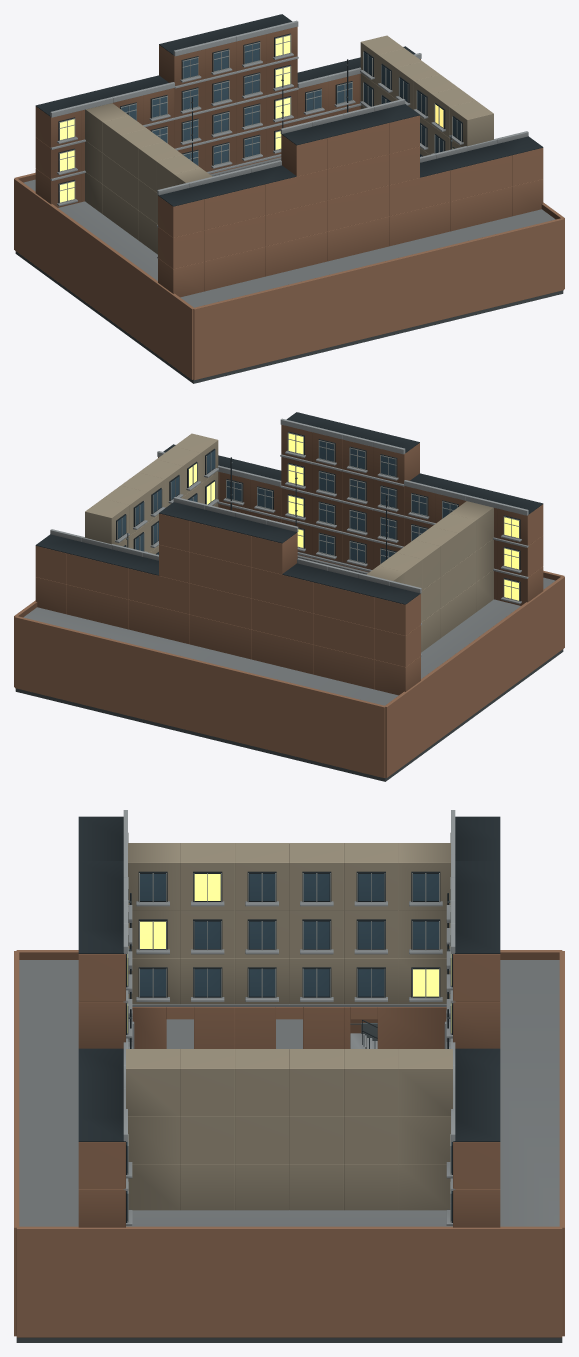
File: onsite-heron-court.glb
The picture shows the model from 3 angles, top to bottom: view 1: azimuth 30°, elevation 25°; view 2: azimuth 150°, elevation 25°; view 3: azimuth 270°, elevation 25°; orthographic projection. The views are drawn at different scales.
Visible parts, largest first — view 1: Estate / brick, Estate / concrete, Estate / stock, Estate / dark, Estate / glass, Estate / trim, Estate / asphalt, Estate / lit; view 2: Estate / brick, Estate / concrete, Estate / stock, Estate / dark, Estate / glass, Estate / trim, Estate / asphalt, Estate / lit; view 3: Estate / brick, Estate / stock, Estate / concrete, Estate / dark, Estate / glass, Estate / asphalt, Estate / trim, Estate / lit.
Part boxes in pixels (<box>): Estate / brick: <box>14,26,564,380</box>; Estate / concrete: <box>23,20,555,307</box>; Estate / stock: <box>85,35,493,254</box>; Estate / dark: <box>35,14,543,206</box>; Estate / glass: <box>121,43,460,165</box>; Estate / trim: <box>59,34,461,203</box>; Estate / asphalt: <box>15,251,563,383</box>; Estate / lit: <box>60,35,453,202</box>; Estate / brick: <box>14,424,564,778</box>; Estate / concrete: <box>23,418,555,705</box>; Estate / stock: <box>85,433,493,652</box>; Estate / dark: <box>35,412,543,604</box>; Estate / glass: <box>118,441,457,563</box>; Estate / trim: <box>117,432,519,601</box>; Estate / asphalt: <box>15,649,563,781</box>; Estate / lit: <box>189,433,518,600</box>; Estate / brick: <box>14,950,564,1337</box>; Estate / stock: <box>126,843,452,1210</box>; Estate / concrete: <box>19,810,559,1226</box>; Estate / dark: <box>78,816,500,1222</box>; Estate / glass: <box>127,874,451,1220</box>; Estate / asphalt: <box>16,1337,562,1342</box>; Estate / trim: <box>127,832,451,1222</box>; Estate / lit: <box>127,874,451,1032</box>.
Bounding box in the file's own units: 36.3 × 18.46 × 30.3.
